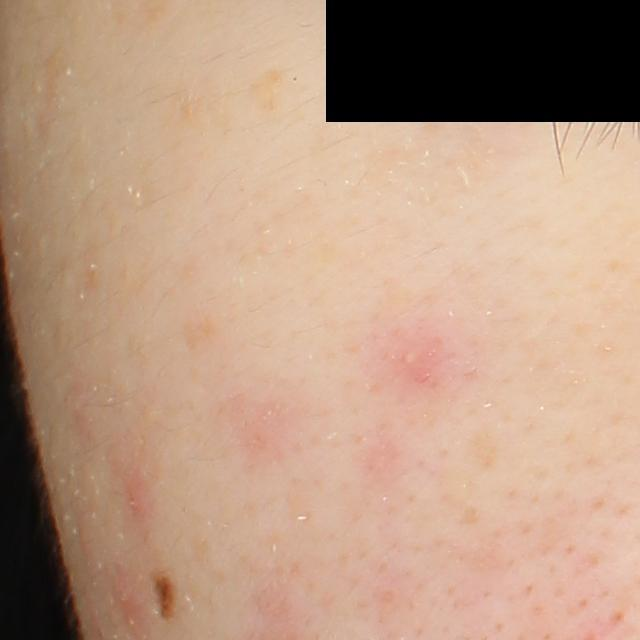melasma: (252, 67, 296, 110)
nevus: (152, 570, 179, 625)
